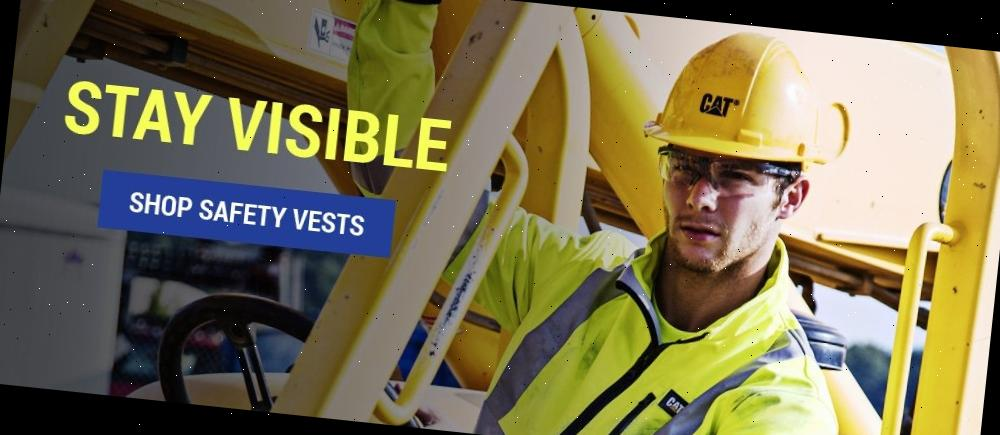helmet: (638, 24, 860, 176)
wear: (444, 250, 845, 435)
